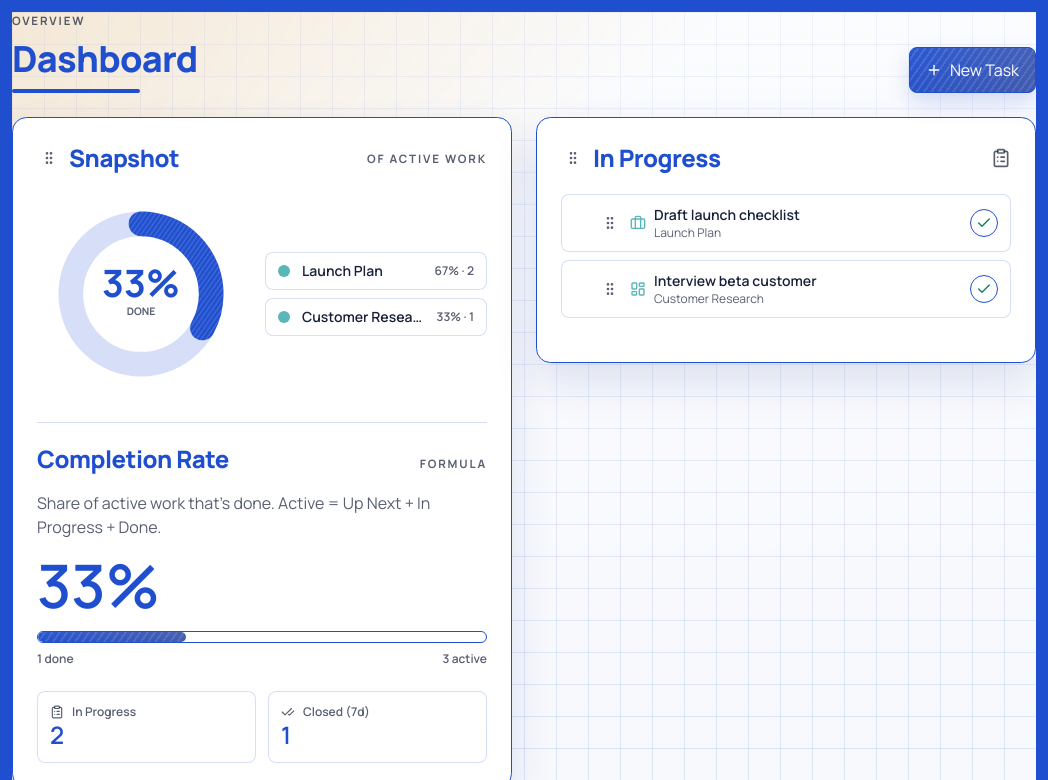
Test: DashboardOverview in-progress panel › marks an in-progress task done and removes it from the list
The width and height of the screenshot is (1048, 780).
Click the button named "Mark Draft launch checklist done".
click(984, 223)  # box x1=970 y1=209 x2=998 y2=237
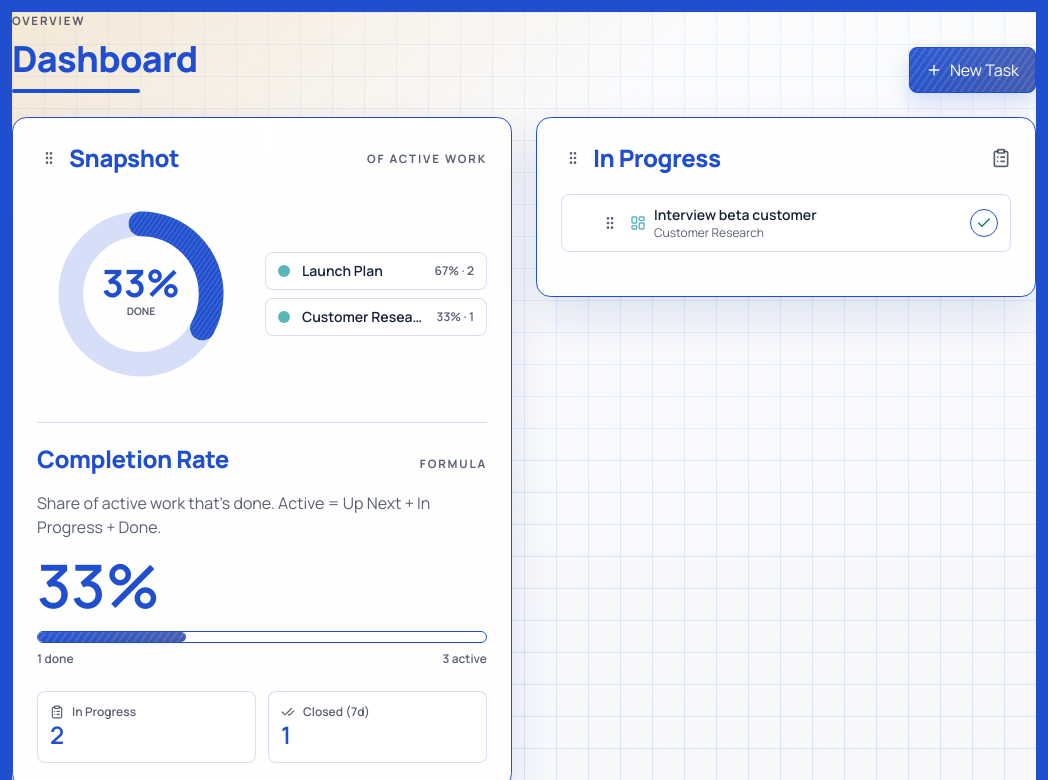
Now the link "Draft launch checklist" is gone
